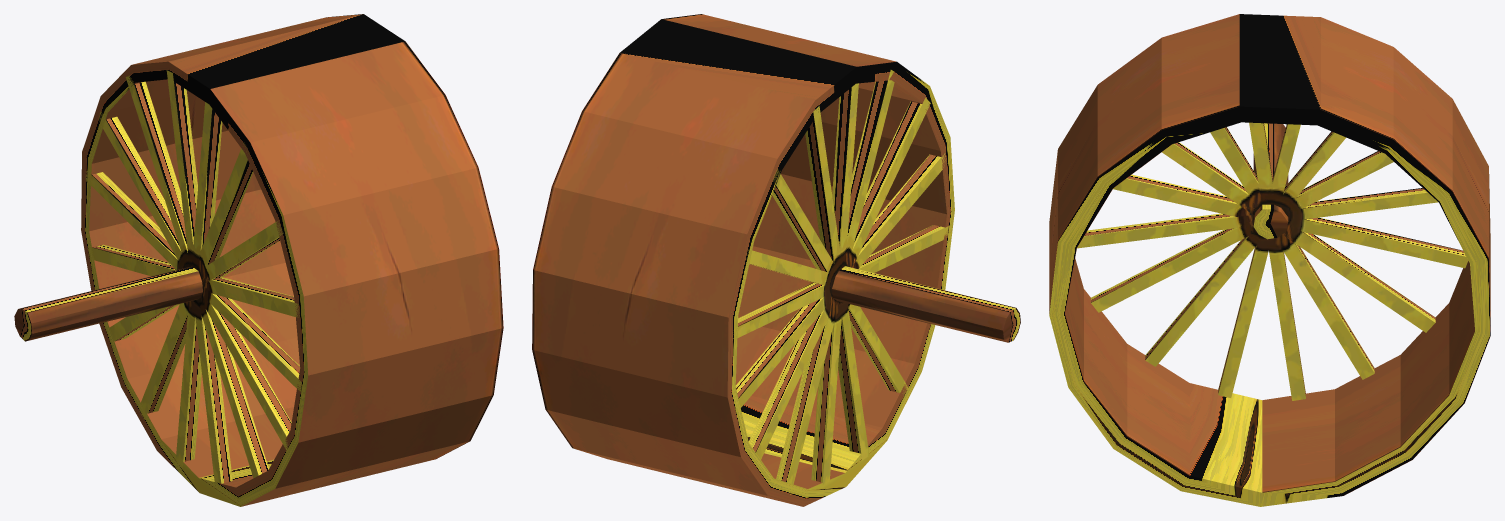
The model's file is Mill.glb.
3 renders of one model, left to right at view 1: azimuth 30°, elevation 25°; view 2: azimuth 150°, elevation 25°; view 3: azimuth 270°, elevation 25°, orthographic. The views are drawn at different scales.
Visible parts, largest first — view 1: Mill; view 2: Mill; view 3: Mill.
Boxes of the visible parts, x1,y1,x2,y2 form: Mill: (14, 14, 503, 506); Mill: (532, 14, 1020, 506); Mill: (1049, 14, 1490, 506).
Size of the model in its own units: 164 by 177 by 177.
1 material, 1 textured.
